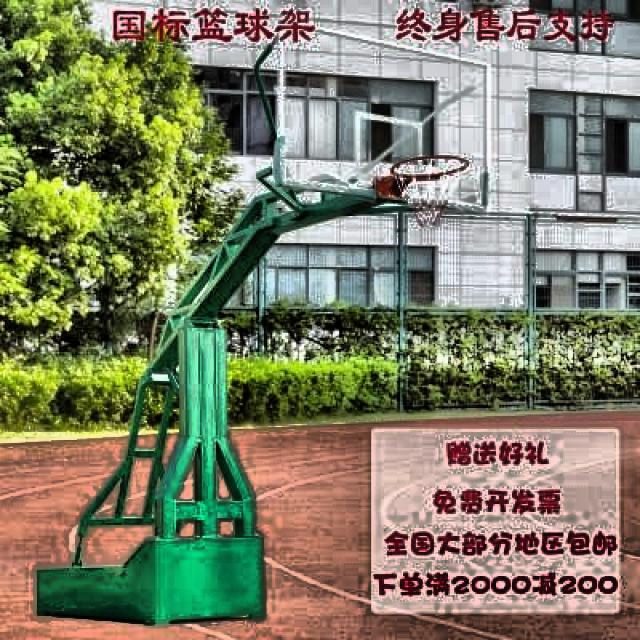rim: (390, 153, 472, 226)
